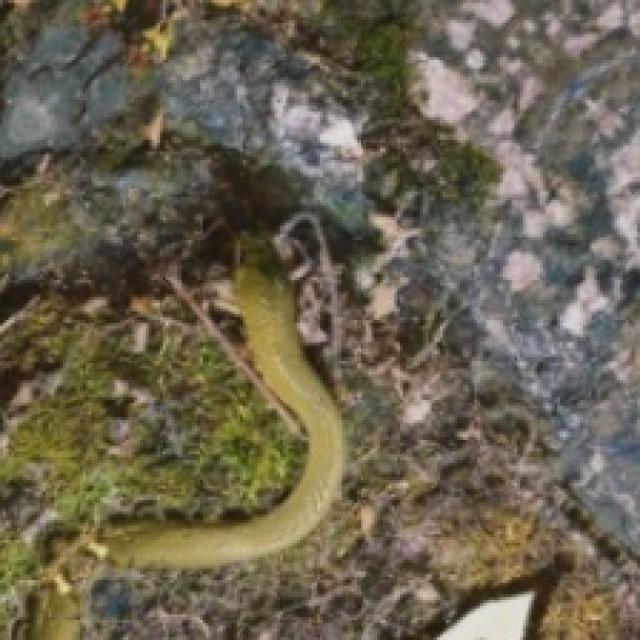gunthers philippine shrub snake: (11, 263, 343, 637), (100, 266, 343, 566)
